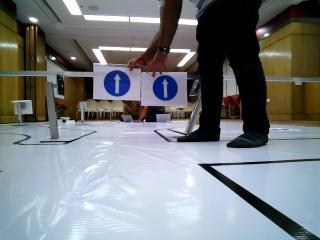straight: (98, 66, 138, 99), (144, 74, 183, 106)
